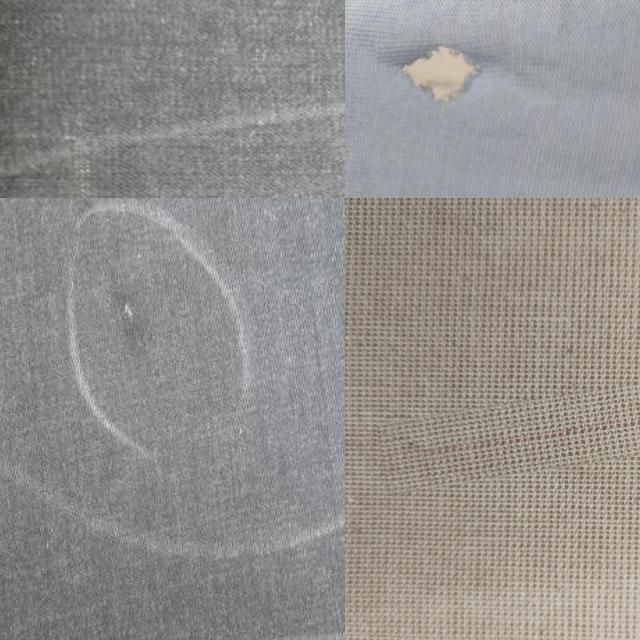Thread_other: (378, 384, 640, 484), (84, 253, 208, 401)
seam: (377, 24, 518, 124)
